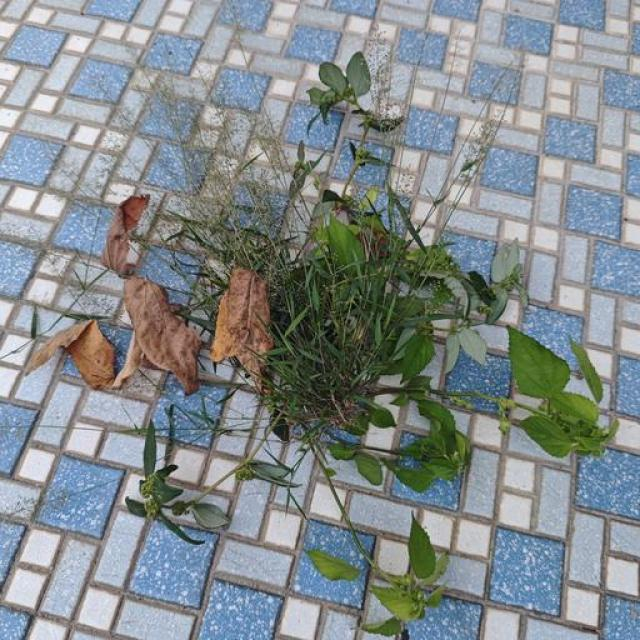organic: (5, 4, 620, 626), (508, 328, 569, 397), (520, 415, 572, 457), (572, 342, 603, 402), (372, 585, 422, 621), (328, 218, 363, 267), (307, 549, 359, 581), (409, 517, 436, 578), (402, 333, 434, 381), (550, 392, 598, 422), (347, 53, 371, 97), (459, 328, 487, 364), (192, 503, 229, 528), (319, 63, 347, 94), (355, 453, 382, 484), (143, 422, 157, 477), (363, 618, 401, 636)
